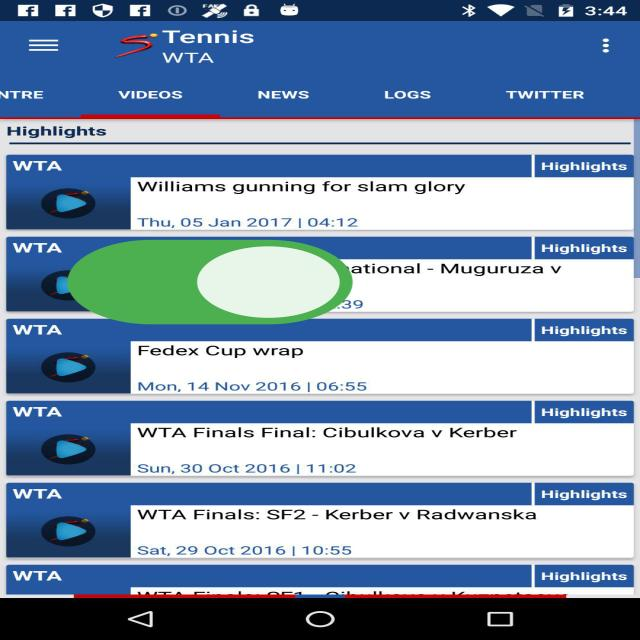social proof: (54, 208, 366, 364)
